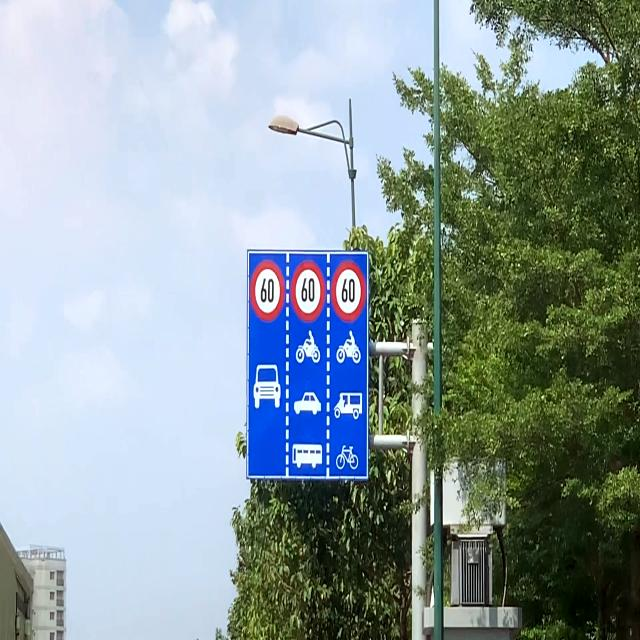P.127: (250, 259, 285, 322), (331, 260, 366, 322), (291, 261, 325, 322)
